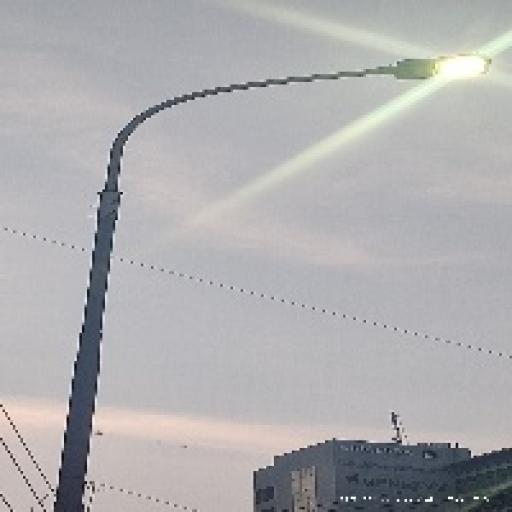Working: (386, 43, 501, 100)
